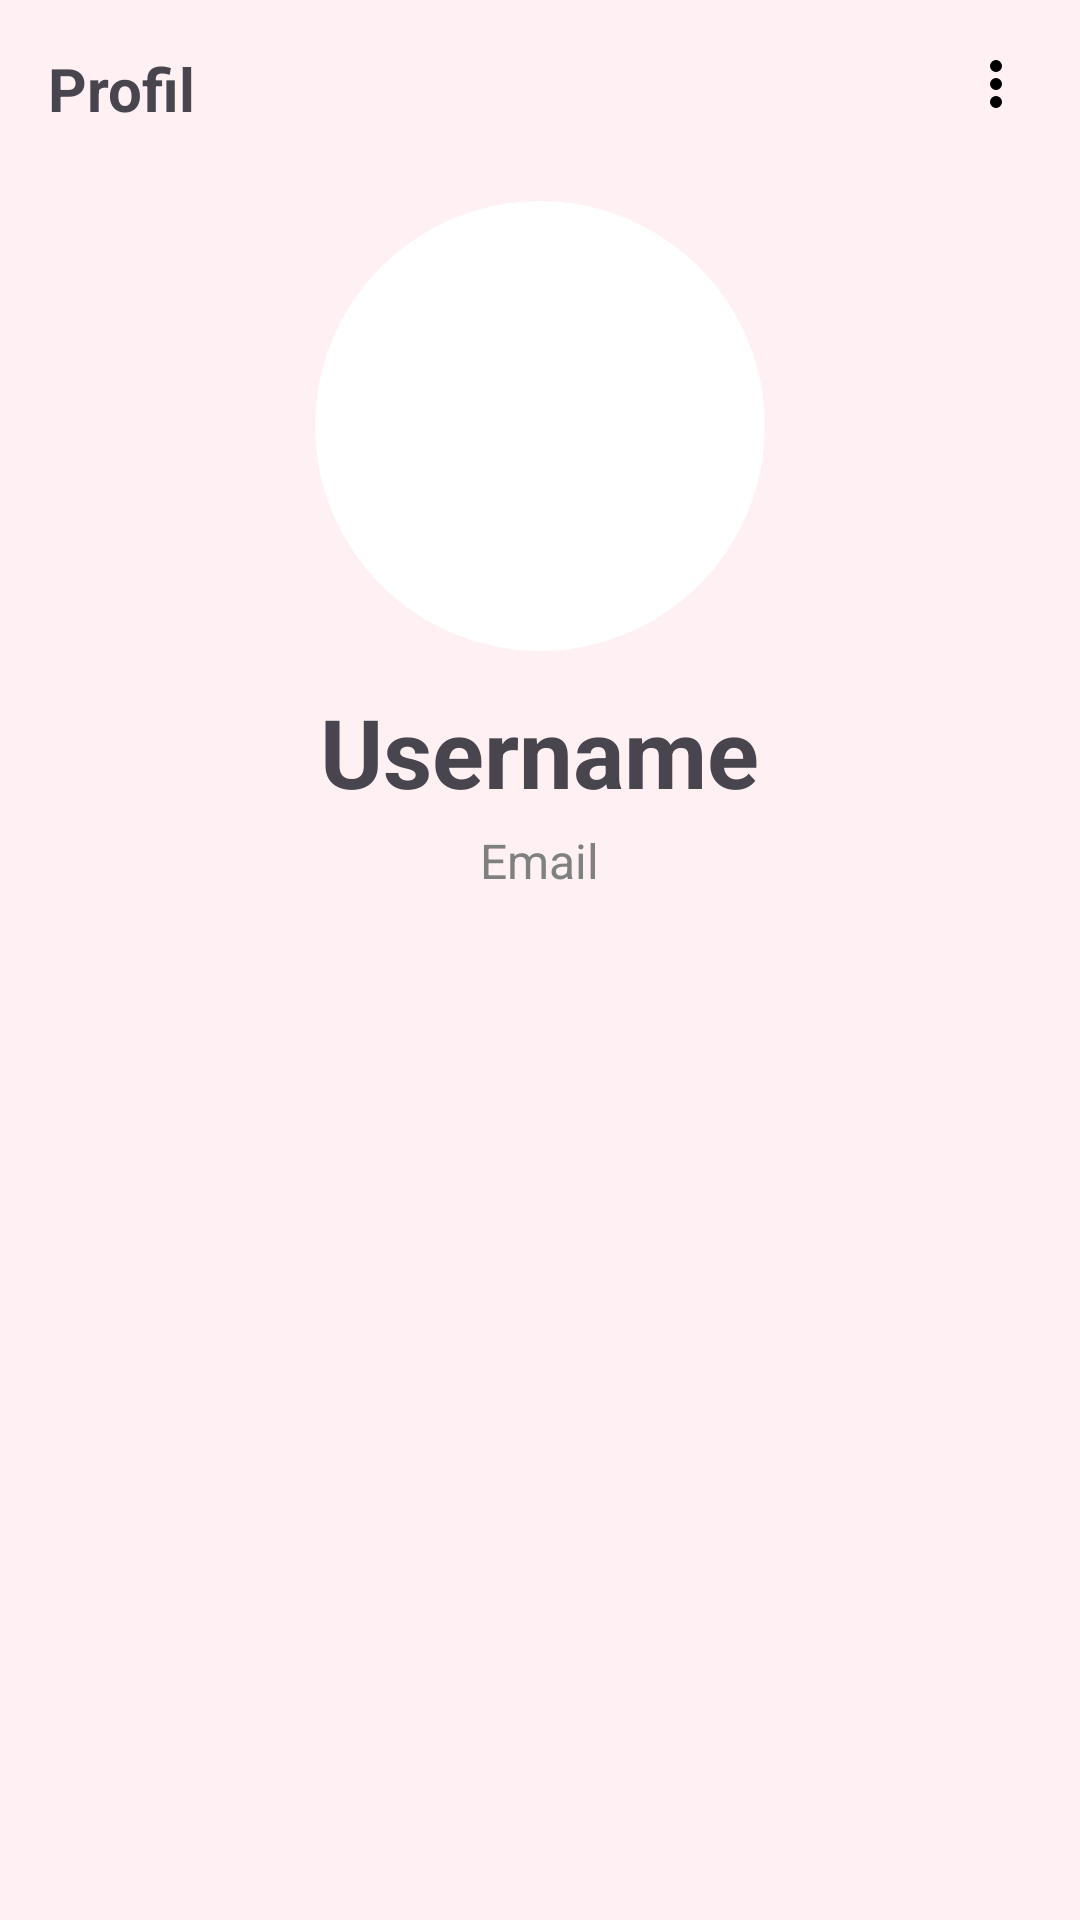

Icons on this 1080w x 1920h Android screen, each with its box as (x1, y1, x2, y2):
more vert: (990, 60, 1002, 108)
